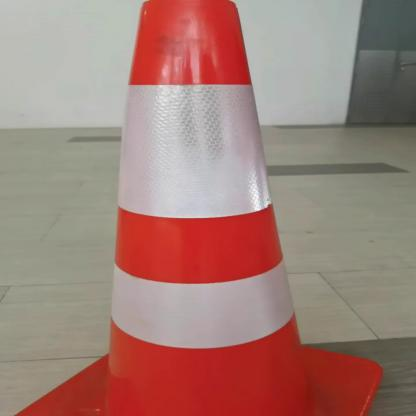cone: (9, 0, 390, 415)
